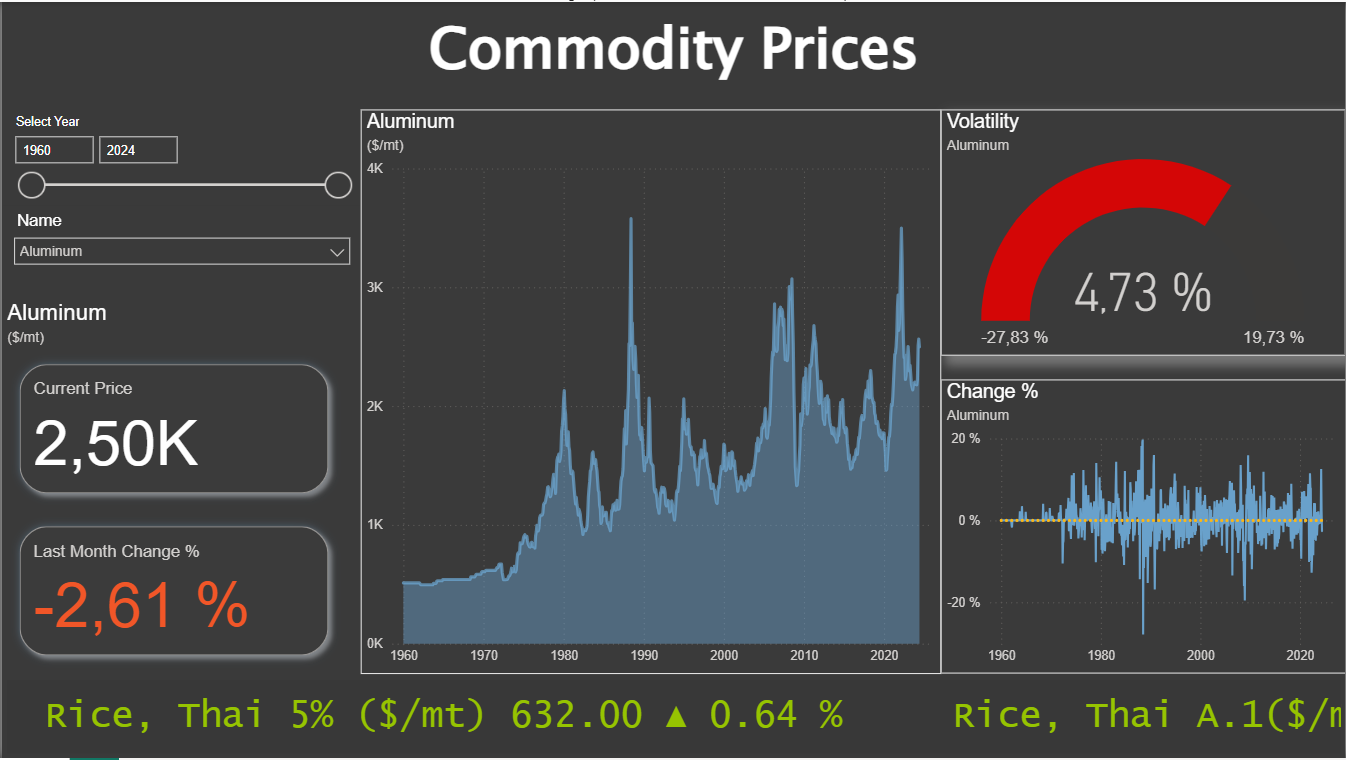

The page's visual inventory and layout, read from the dashboard file:
{"tool":"powerbi","page":{"name":"Página 1","canvas":[1280,720],"ordinal":0},"visuals":[{"type":"slicer","fields":{"Values":["Tabla 1.Month.Variación.Jerarquía de fechas.Año"]},"box":[0,102.4,341.7,91.7],"z":0},{"type":"textbox","box":[0,0,1279.8,102.4],"z":1000},{"type":"gauge","title":"Volatility","fields":{"Y":["Sum(Tabla 1.Growth_)"],"MinValue":["Min(Tabla 1.Growth_)2"],"MaxValue":["Max(Tabla 1.Growth_)"]},"box":[894.1,102.4,385.7,234.5],"z":2000},{"type":"lineChart","title":"Change %","fields":{"Category":["Tabla 1.Month.Variación.Jerarquía de fechas.Año","Tabla 1.Month.Variación.Jerarquía de fechas.Trimestre","Tabla 1.Month.Variación.Jerarquía de fechas.Mes","Tabla 1.Month.Variación.Jerarquía de fechas.Día"],"Y":["Avg(Tabla 1.Growth_)","Tabla 1.Zero"]},"box":[893.8,360,386.2,280],"z":3000},{"type":"slicer","fields":{"Values":["Tabla 1.Name"]},"box":[1.2,194,340.5,89.3],"z":4000},{"type":"actionButton","box":[0,0,100,40],"z":5000},{"type":"lineChart","fields":{"Category":["Tabla 1.Month.Variación.Jerarquía de fechas.Año","Tabla 1.Month.Variación.Jerarquía de fechas.Trimestre","Tabla 1.Month.Variación.Jerarquía de fechas.Mes","Tabla 1.Month.Variación.Jerarquía de fechas.Día"],"Y":["Sum(Tabla 1.Price)"]},"box":[341.2,102.5,552.5,537.5],"z":6000},{"type":"cardVisual","fields":{"Data":["Sum(Tabla 1.Price)","Sum(Tabla 1.Growth_)"]},"box":[0,283.8,328.8,356.2],"z":7000},{"type":"ScrollingTextVisual1448795304508","fields":{"Category":["Tabla 1.Commodity"],"Measure Deviation":["Sum(Tabla 1.Growth_)"],"Measure Absolute":["Sum(Tabla 1.Price)"]},"box":[0,640,1280,80],"z":8000}]}

Visuals, with their boxes in screenshot pixels (x1, y1, x2, y2), scaled from the page's 1280x720 canvas onto the 1346x760 screenshot:
slicer - Tabla 1.Month.Variación.Jerarquía de fechas.Año: BBox(0, 108, 359, 205)
textbox: BBox(0, 0, 1345, 108)
"Volatility" gauge: BBox(940, 108, 1345, 356)
"Change %" lineChart: BBox(940, 380, 1345, 676)
slicer - Tabla 1.Name: BBox(1, 205, 359, 299)
actionButton: BBox(0, 0, 105, 42)
lineChart - Tabla 1.Month.Variación.Jerarquía de fechas.Año x Tabla 1.Month.Variación.Jerarquía de fechas.Trimestre: BBox(359, 108, 940, 676)
cardVisual - Sum(Tabla 1.Price) x Sum(Tabla 1.Growth_): BBox(0, 300, 346, 676)
ScrollingTextVisual1448795304508 - Tabla 1.Commodity x Sum(Tabla 1.Growth_): BBox(0, 676, 1345, 759)
